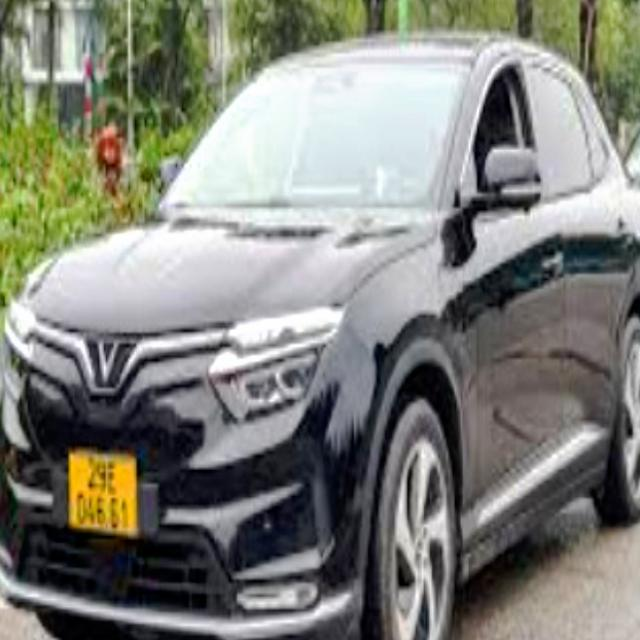Car: (0, 29, 640, 640), (620, 55, 640, 434)
